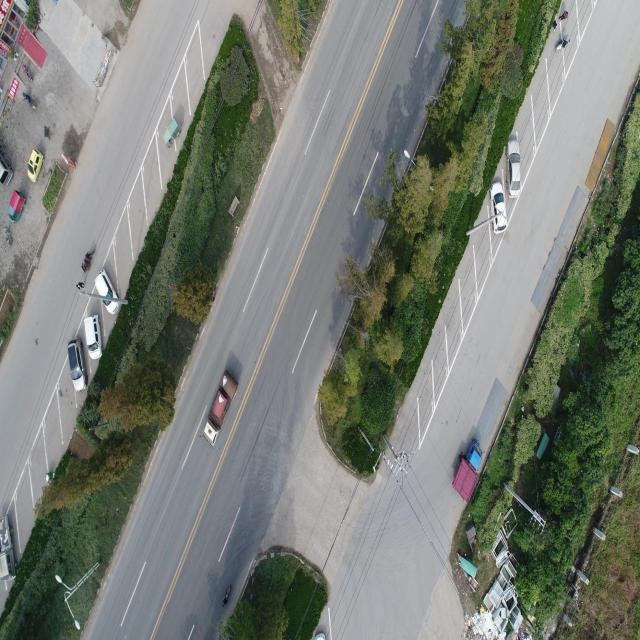p3rson: (75, 280, 86, 291), (558, 9, 568, 21), (552, 20, 558, 34)
